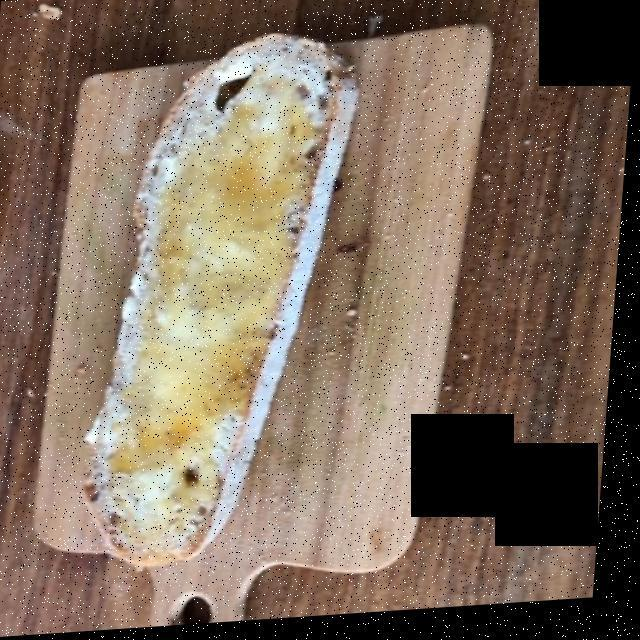bread: (98, 50, 339, 563)
honey: (114, 83, 305, 527)
